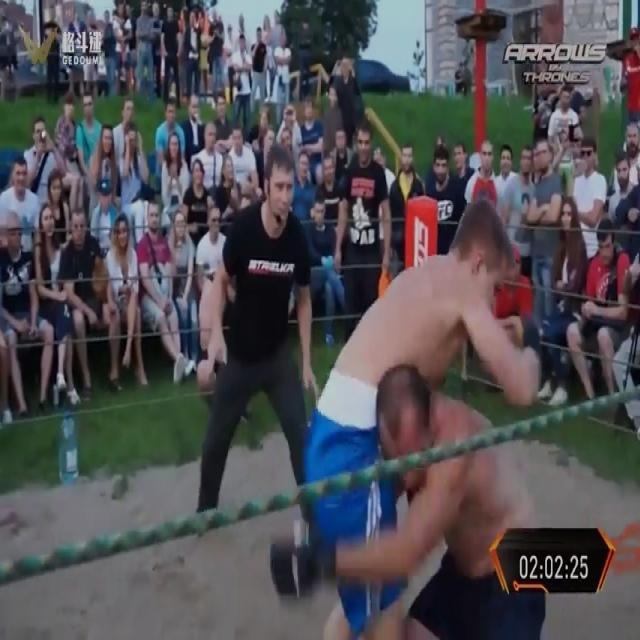fight: (306, 196, 568, 638)
non-fight: (193, 135, 321, 540), (59, 196, 119, 395), (0, 207, 56, 412), (136, 200, 196, 384), (155, 0, 185, 99)
